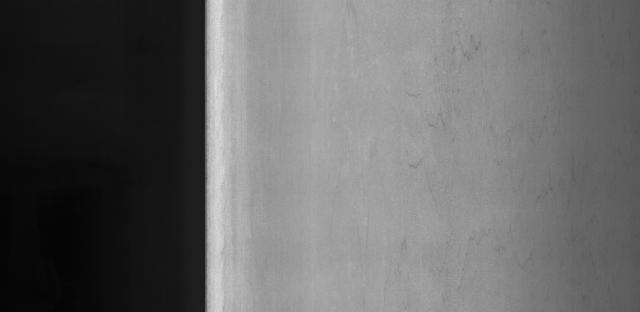silk_spot: (390, 22, 558, 262)
